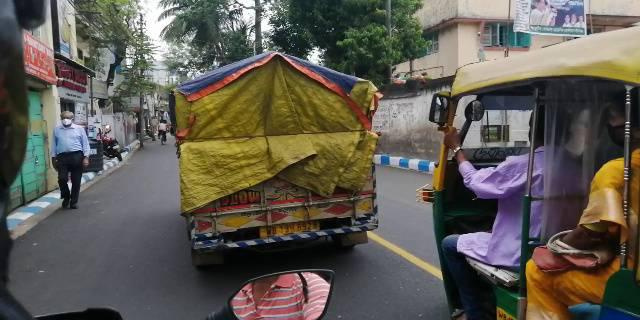Autorickshaw: (422, 23, 640, 320)
Minitruck: (169, 49, 381, 268)
